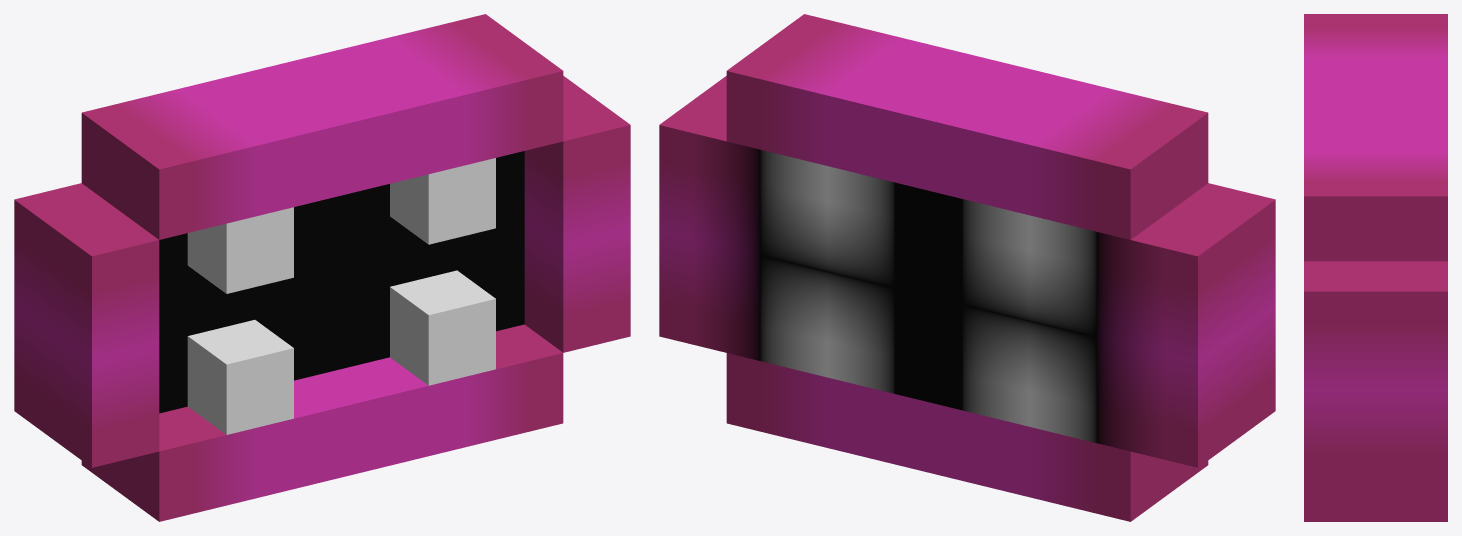
File: slime_mouth.fbx
3 renders of one model, left to right at view 1: azimuth 30°, elevation 25°; view 2: azimuth 150°, elevation 25°; view 3: azimuth 270°, elevation 25°, orthographic. The views are drawn at different scales.
Visible parts, largest first — view 1: slime_mouth; view 2: slime_mouth; view 3: slime_mouth.
Part boxes in pixels (x1,y1,x2,y2): slime_mouth: [14, 14, 630, 521]; slime_mouth: [659, 14, 1275, 521]; slime_mouth: [1304, 14, 1447, 521].
Size of the model in its own units: 8 by 5 by 2.
Materials: 1 (1 with a texture image).
